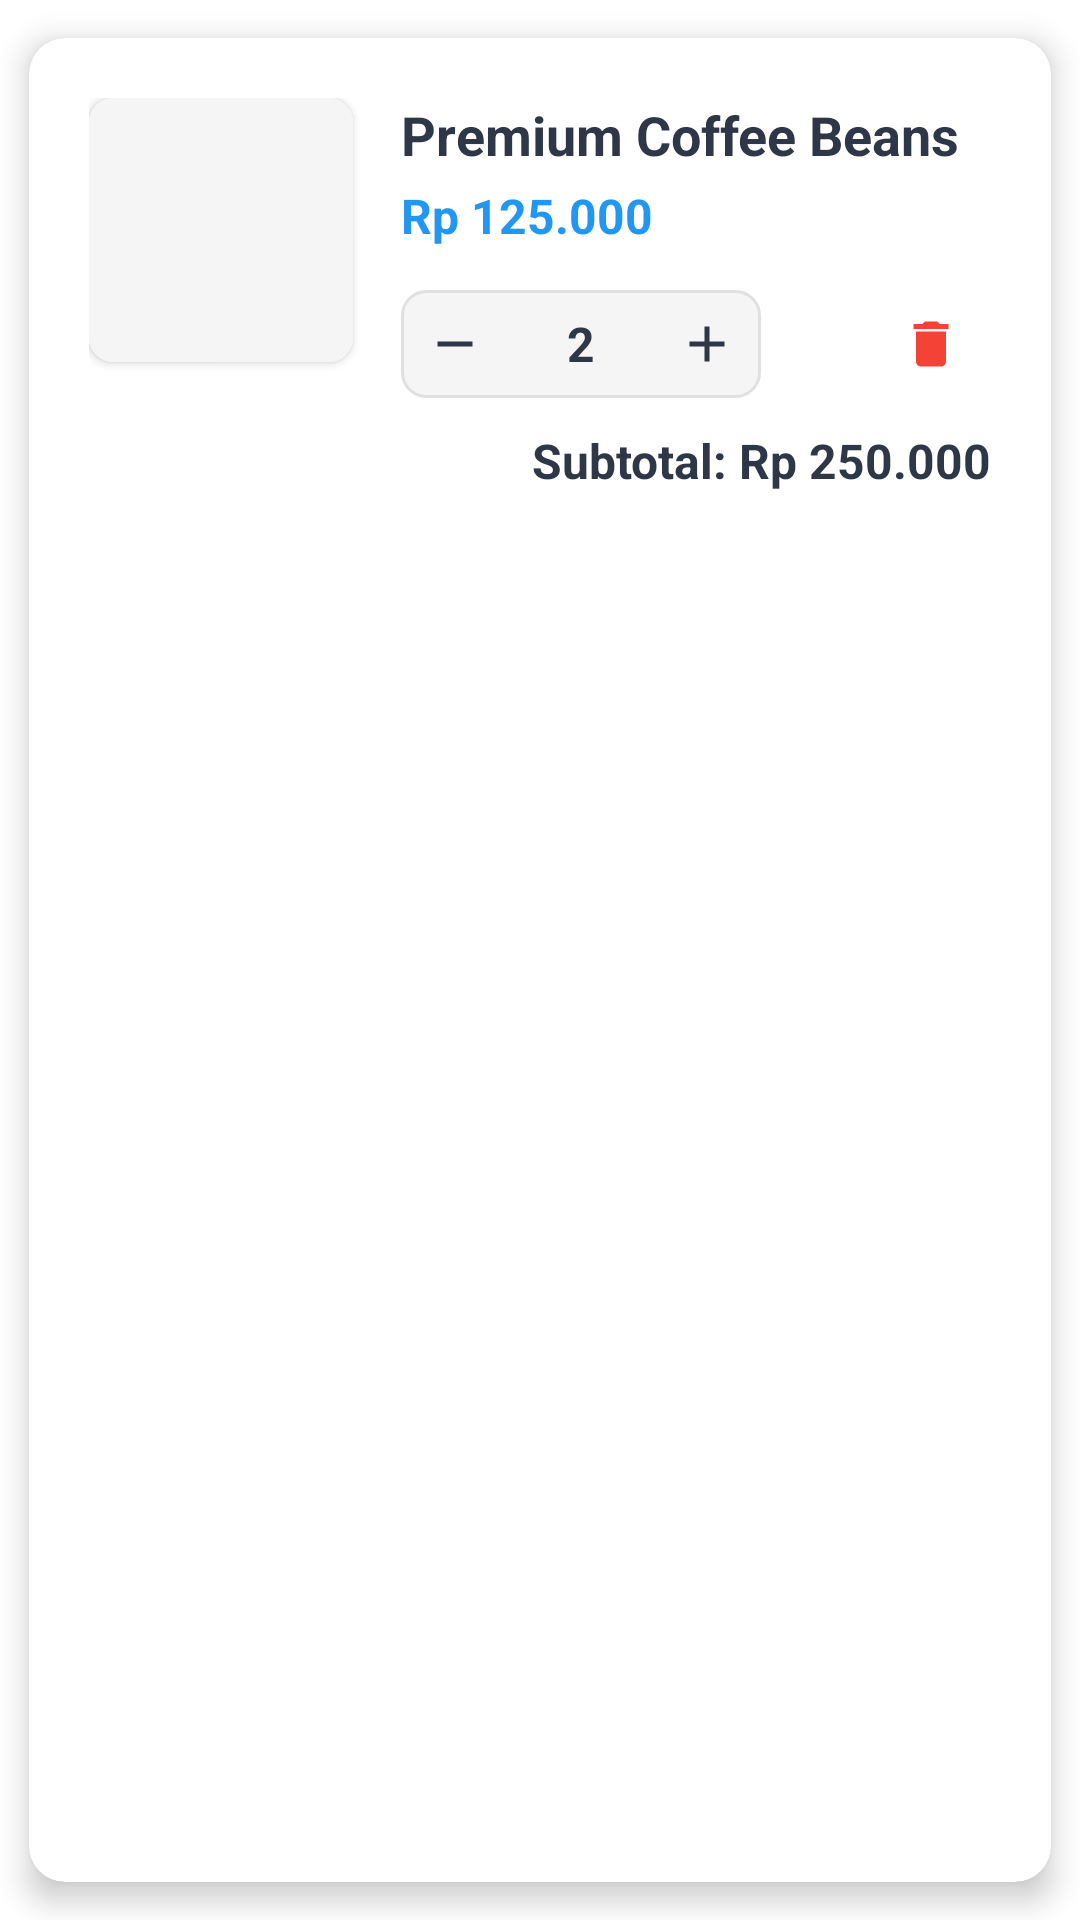

Icons on this 1080px x 1920px Android screen, each with the point to tap as (x,y):
Decrease quantity: (455,344)
Increase quantity: (707,344)
Remove item: (931,344)
